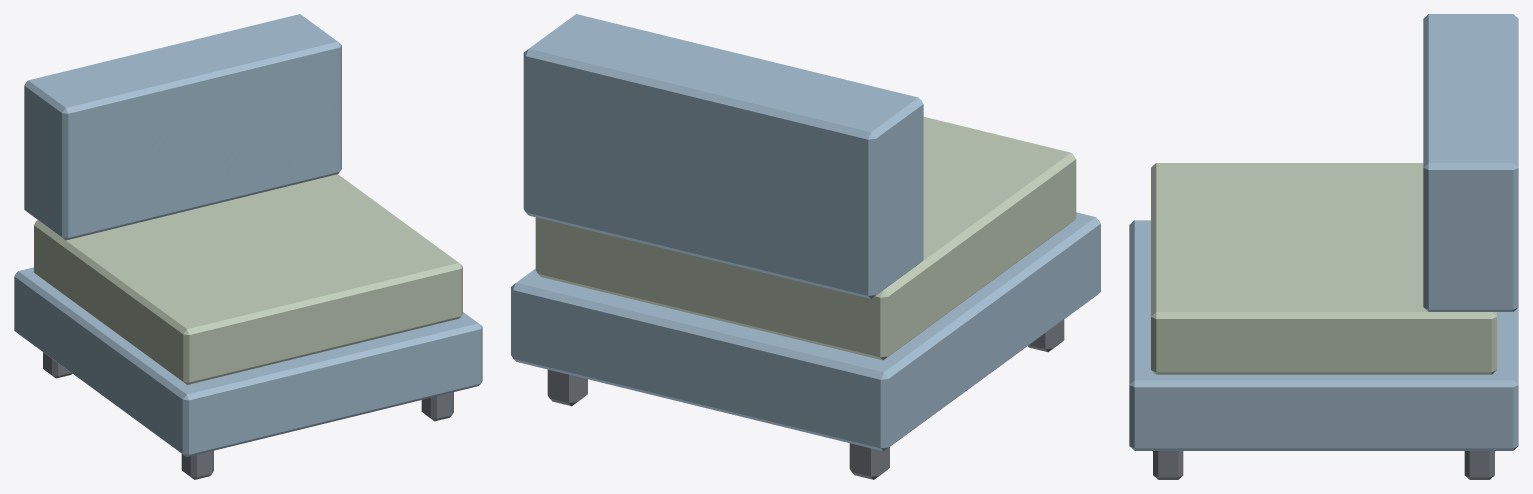
The model's file is Seat_1.glb.
3 renders of one model, left to right at view 1: azimuth 30°, elevation 25°; view 2: azimuth 150°, elevation 25°; view 3: azimuth 270°, elevation 25°, orthographic. The views are drawn at different scales.
Visible parts, largest first — view 1: Sofa_Seat_1_Body; view 2: Sofa_Seat_1_Body; view 3: Sofa_Seat_1_Body.
Part boxes in pixels (bbox=[...]): Sofa_Seat_1_Body: bbox=[14, 14, 482, 479]; Sofa_Seat_1_Body: bbox=[511, 14, 1100, 479]; Sofa_Seat_1_Body: bbox=[1129, 14, 1518, 479].
Bounding box in the file's own units: 0.9 × 0.82 × 0.9.
